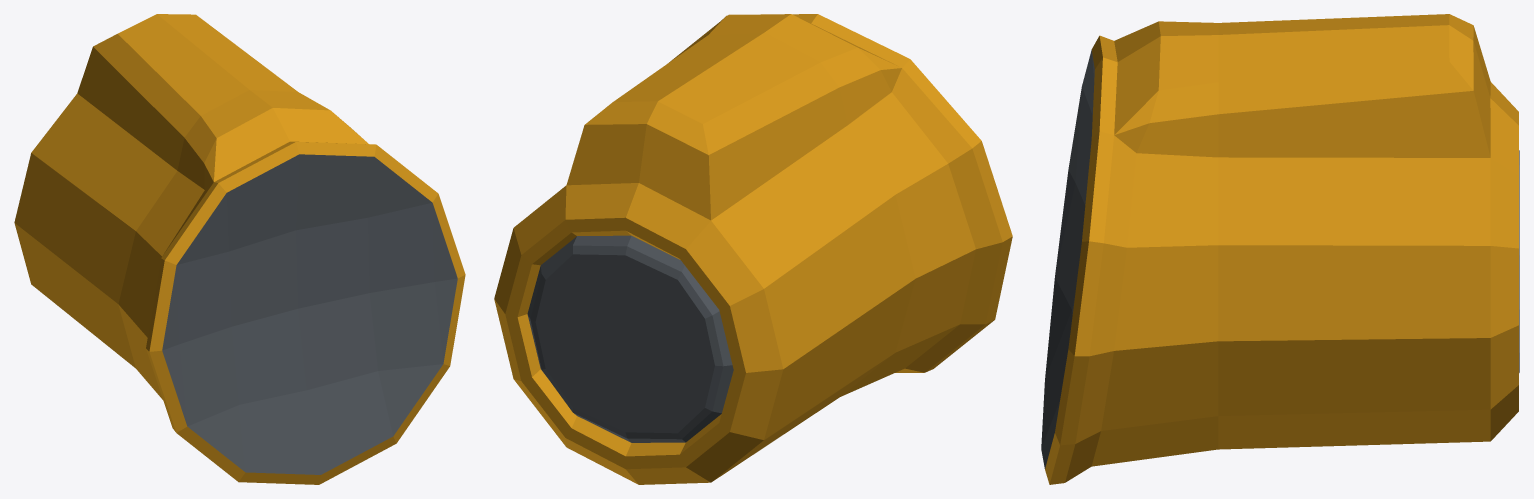
File: Personal_Vehicle_04_Thruster_Yellow.fbx
3 renders of one model, left to right at view 1: azimuth 30°, elevation 25°; view 2: azimuth 150°, elevation 25°; view 3: azimuth 270°, elevation 25°, orthographic. The views are drawn at different scales.
Visible parts, largest first — view 1: Personal_Vehicle_04_Thruster_Yellow; view 2: Personal_Vehicle_04_Thruster_Yellow; view 3: Personal_Vehicle_04_Thruster_Yellow.
Boxes of the visible parts, <box> form: Personal_Vehicle_04_Thruster_Yellow: <box>14,14,465,484</box>; Personal_Vehicle_04_Thruster_Yellow: <box>494,14,1012,484</box>; Personal_Vehicle_04_Thruster_Yellow: <box>1041,14,1519,484</box>.
Size of the model in its own units: 80.27 by 85.42 by 84.6.
1 material, 1 textured.
